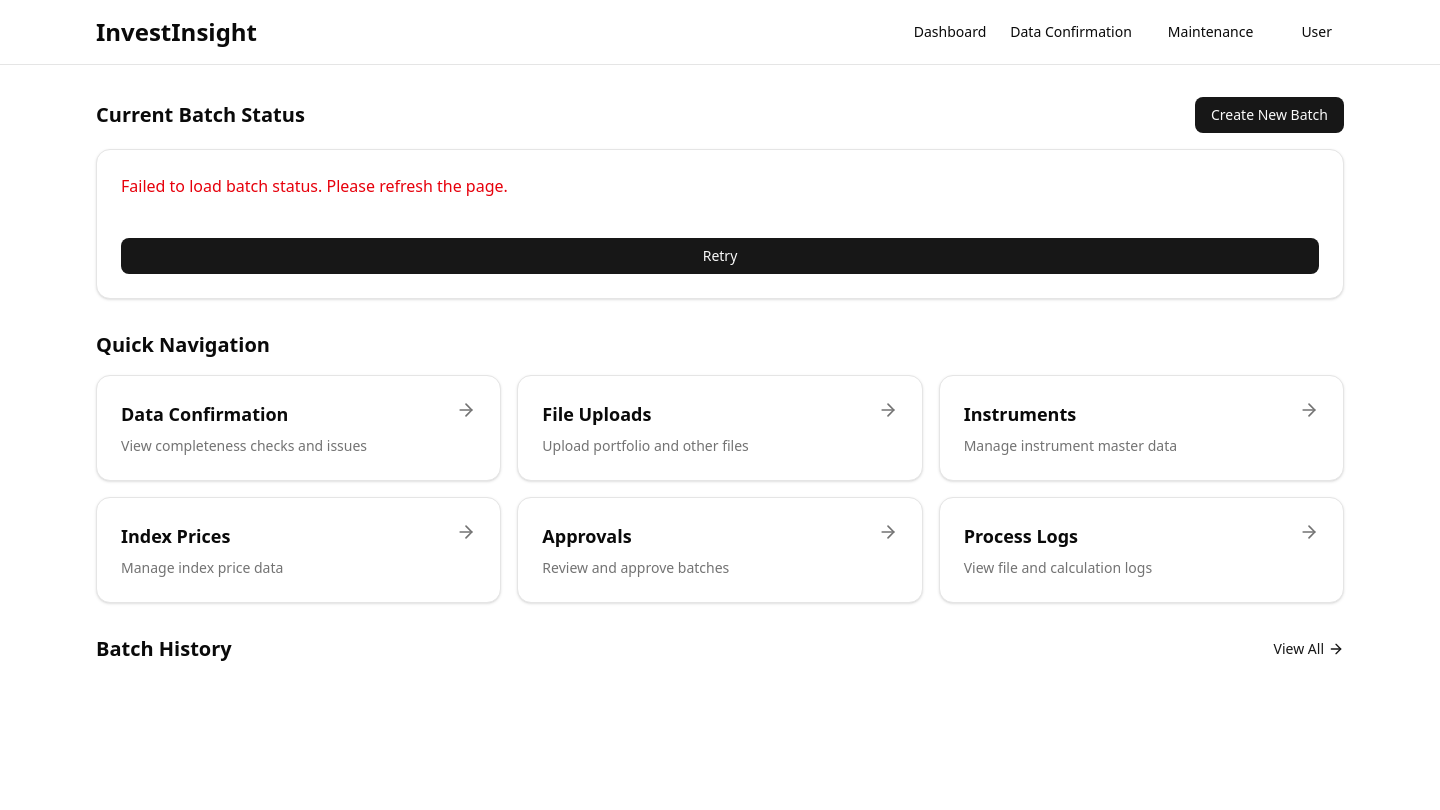
Scenario: HomePage - Create New Batch › Error Handling › displays error notification "Failed to create batch. Please try again." on 500 error
The width and height of the screenshot is (1440, 810).
Click the button "Create New Batch". click: (1270, 115)
box: [1195,97,1344,133]
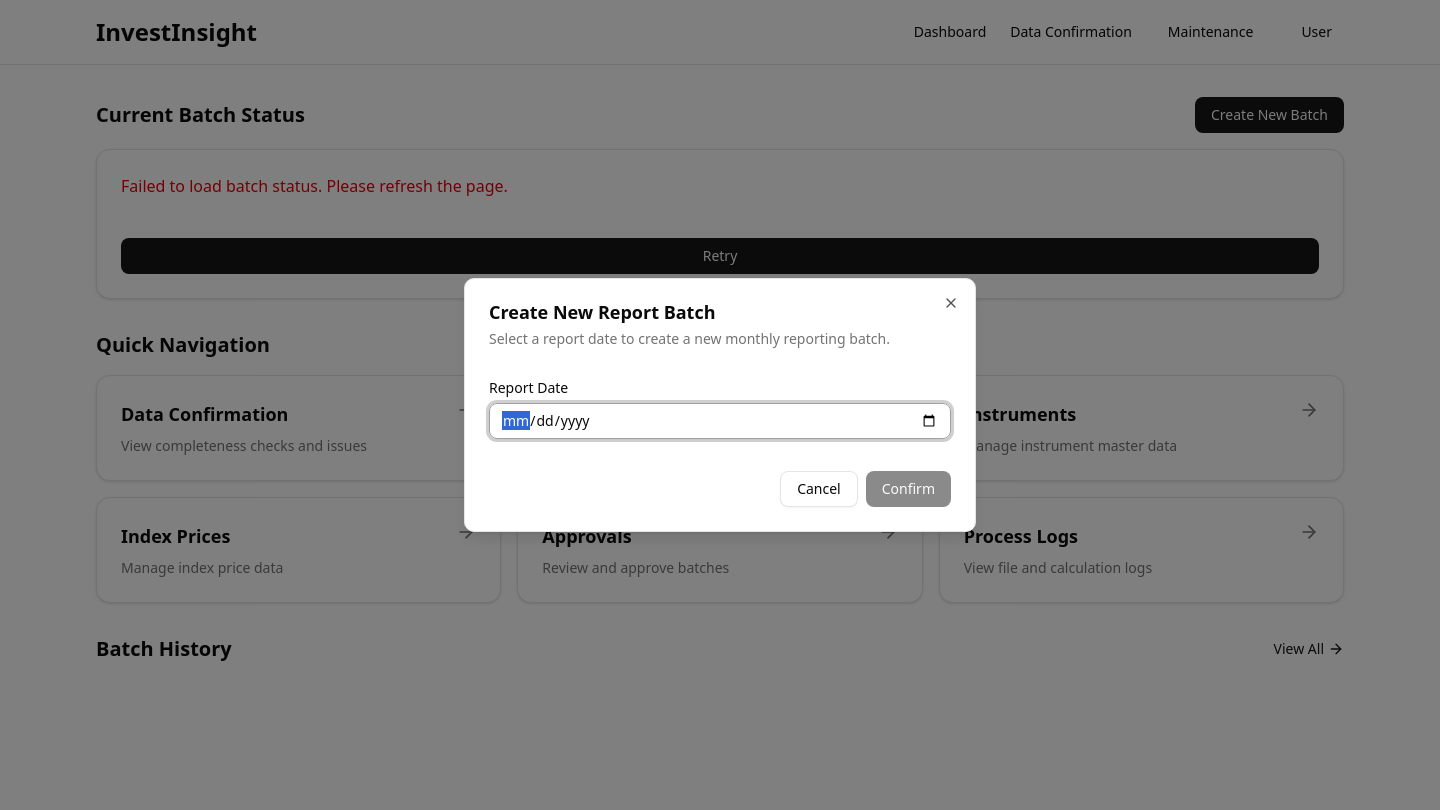
Type "2026-03-31" into the date field labelled "Report Date". click: (720, 421)
box: [489,403,951,439]
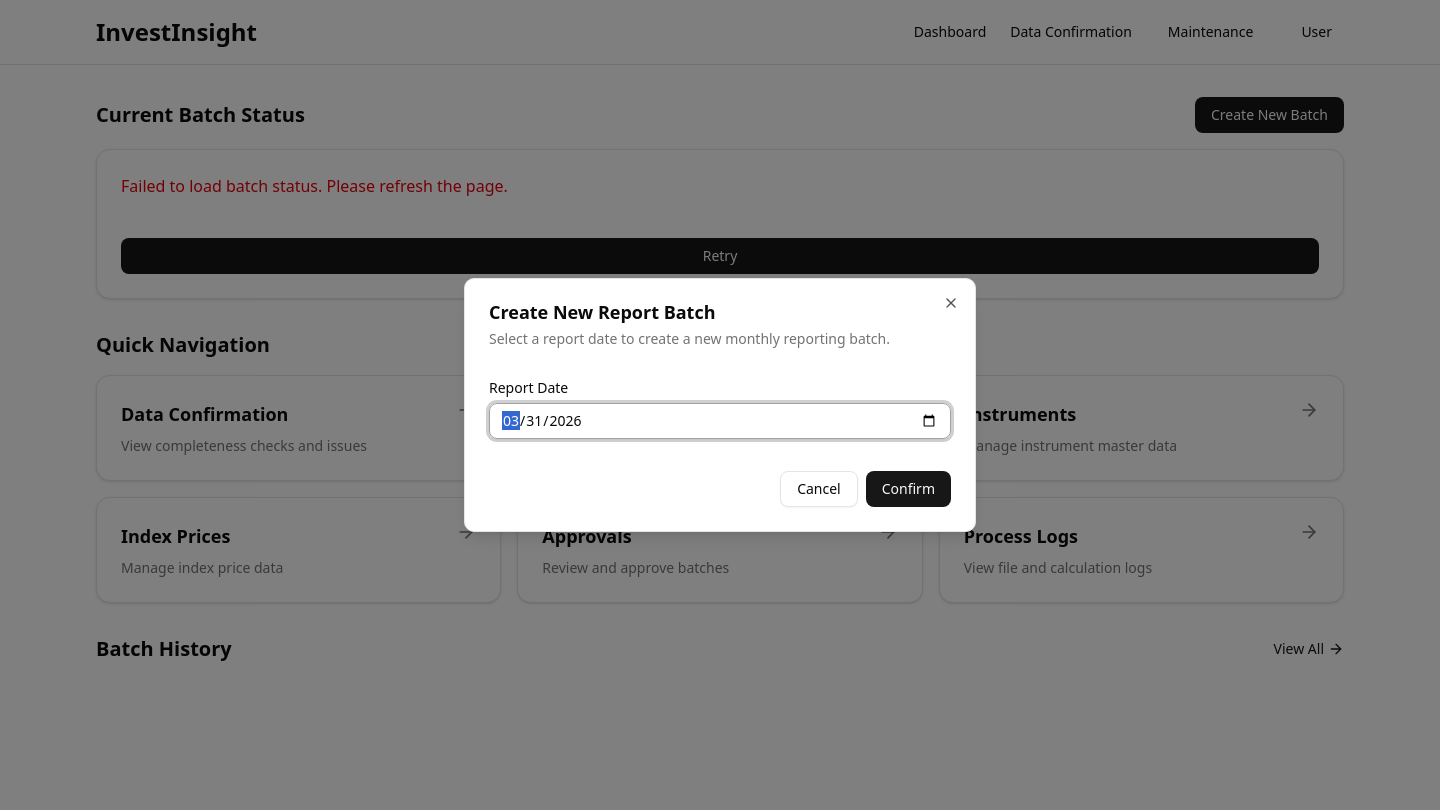
Click the button "Confirm". click: (908, 489)
box: [866,471,951,507]
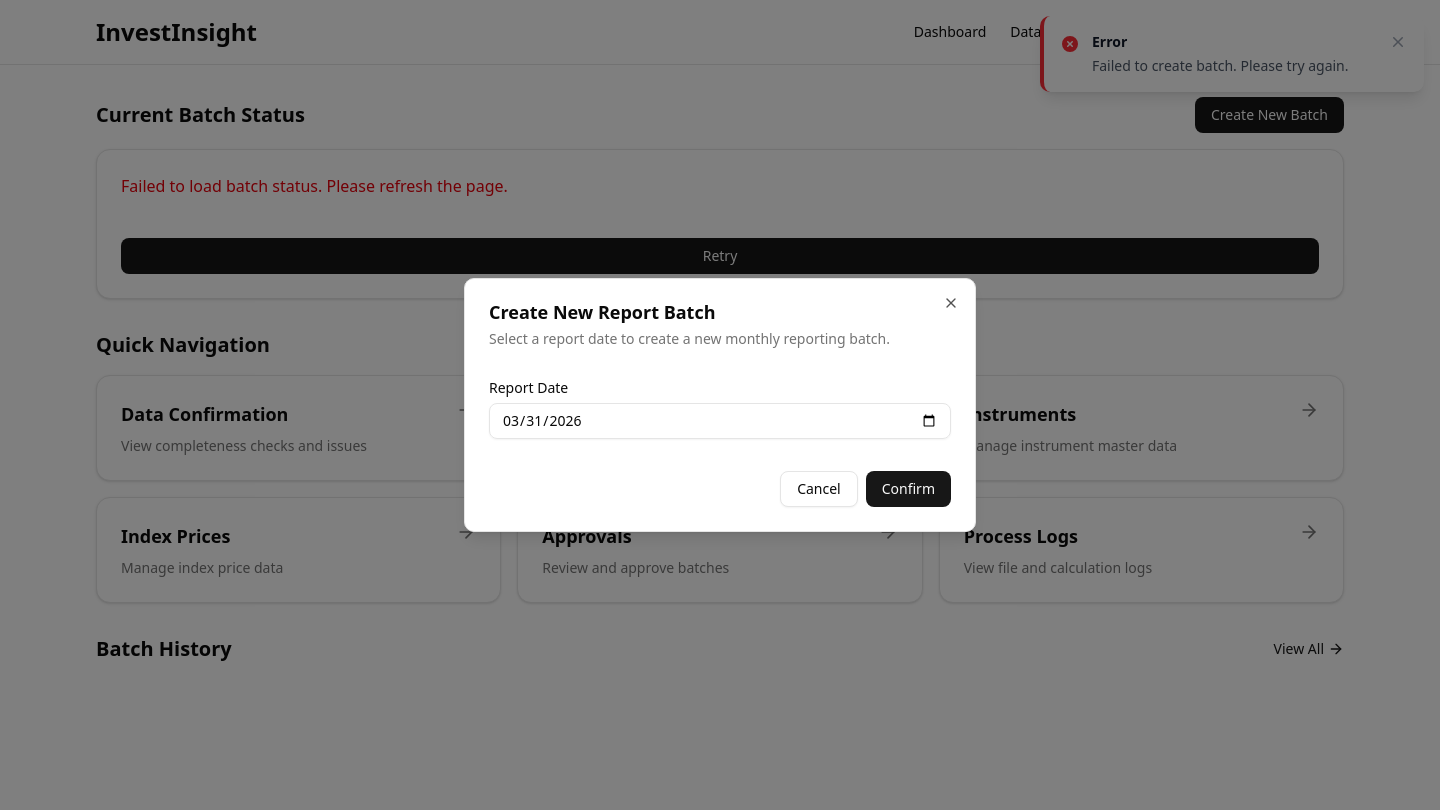
Now the text "Failed to create batch. Please try again." is shown, box [1092,56,1376,76]
